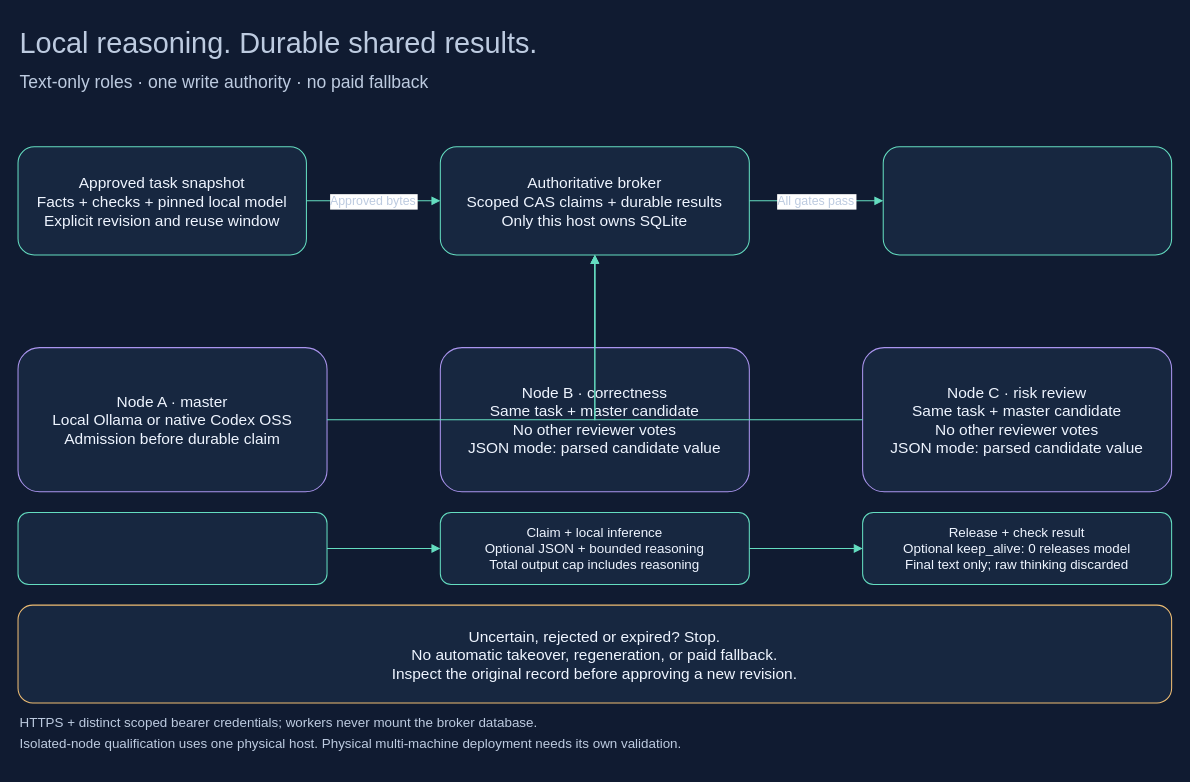
The diagram is 1190 pixels wide and 782 high, and some of its shapes have lost their labels. The centre of each missing label's shape, as x and y in pixels:
"Checked answer Master checks + every review pass Exact repeat: no generation" belongs at [1027,200].
"Each role waits for capacity CPU/memory + invocation deadline" belongs at [172,548].
